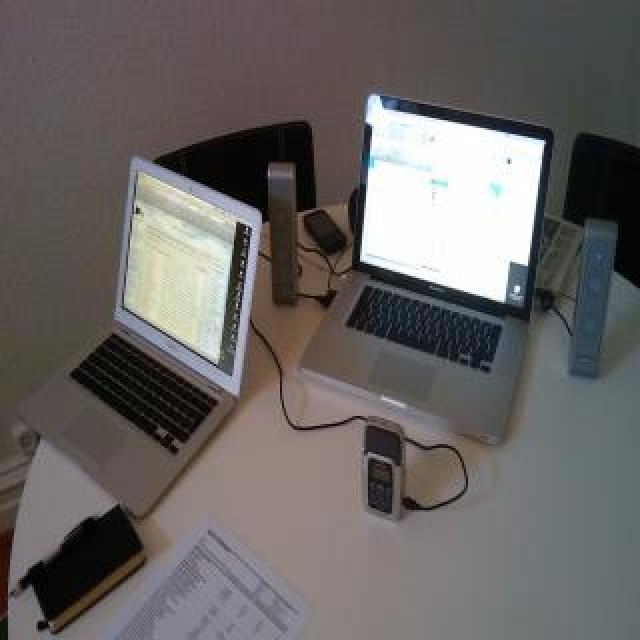laptop_computer: (305, 87, 563, 435), (37, 153, 273, 507)
